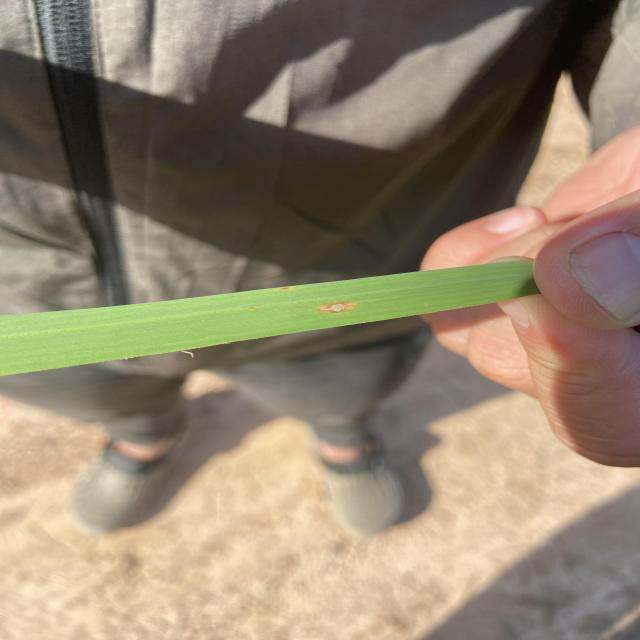Dao on: (320, 302, 351, 312)
